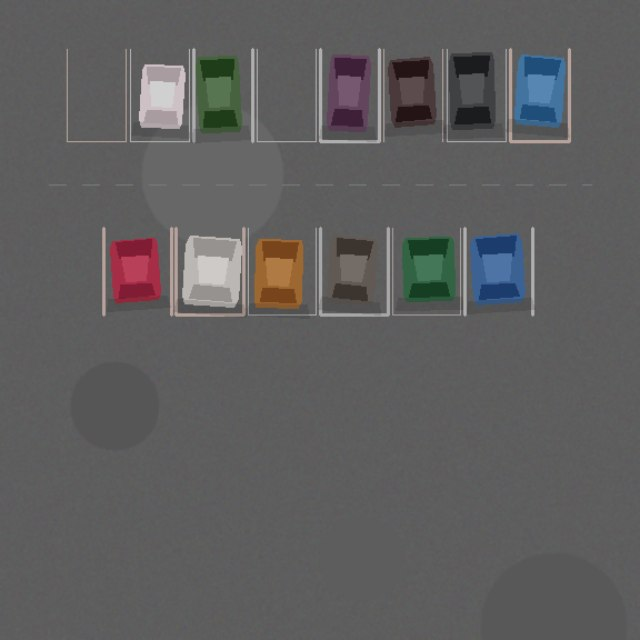space-empty: (67, 49, 126, 141), (257, 49, 316, 141)
space-occupied: (103, 228, 171, 314), (248, 228, 316, 314), (320, 228, 388, 314), (392, 228, 460, 314), (464, 228, 532, 314), (176, 228, 243, 314), (130, 49, 189, 141), (193, 49, 252, 141), (320, 49, 379, 141), (383, 49, 442, 141), (447, 49, 506, 141), (510, 49, 569, 141)
